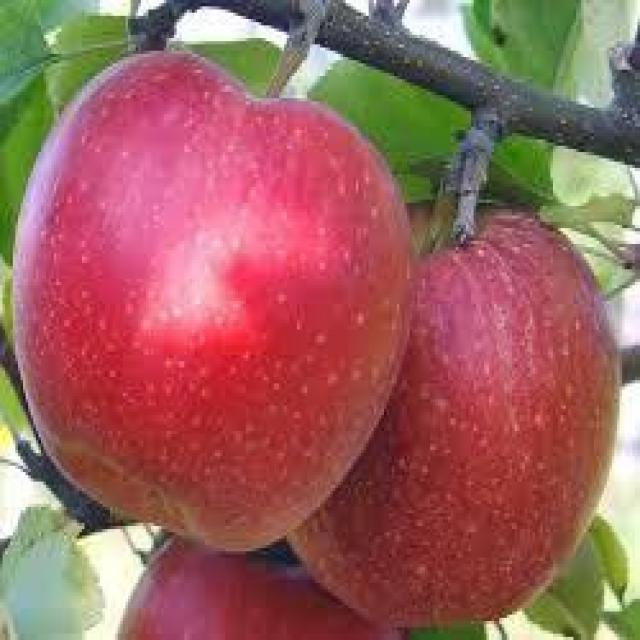Fresh Apple: (18, 62, 405, 548), (388, 218, 600, 610)
